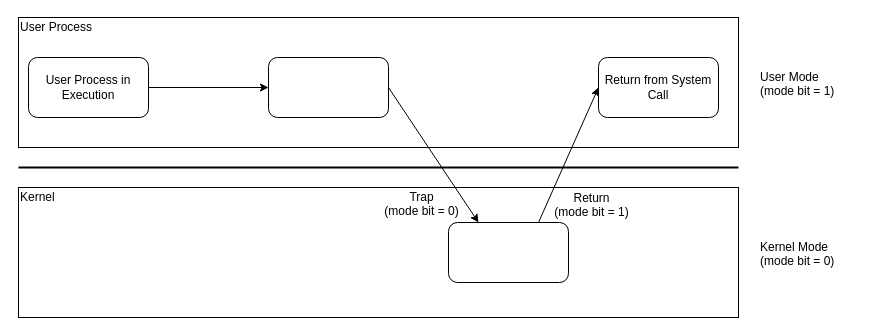
Image size: 875x335. Some labels were removed from this diagram. Here are the shapes that lost their labels. From the top down, the centre of each, then its label:
At [328,87]: "Calls a System Call".
At [508,252]: "Execute System Call".
